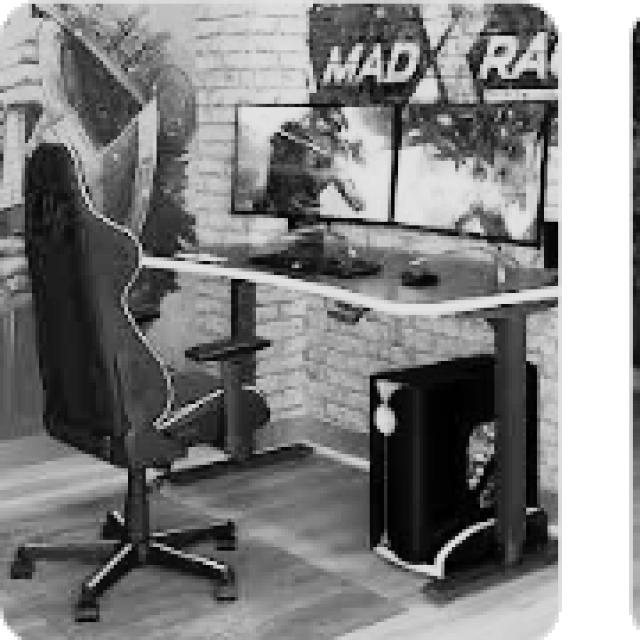book: (7, 140, 256, 622)
table: (147, 208, 541, 604)
